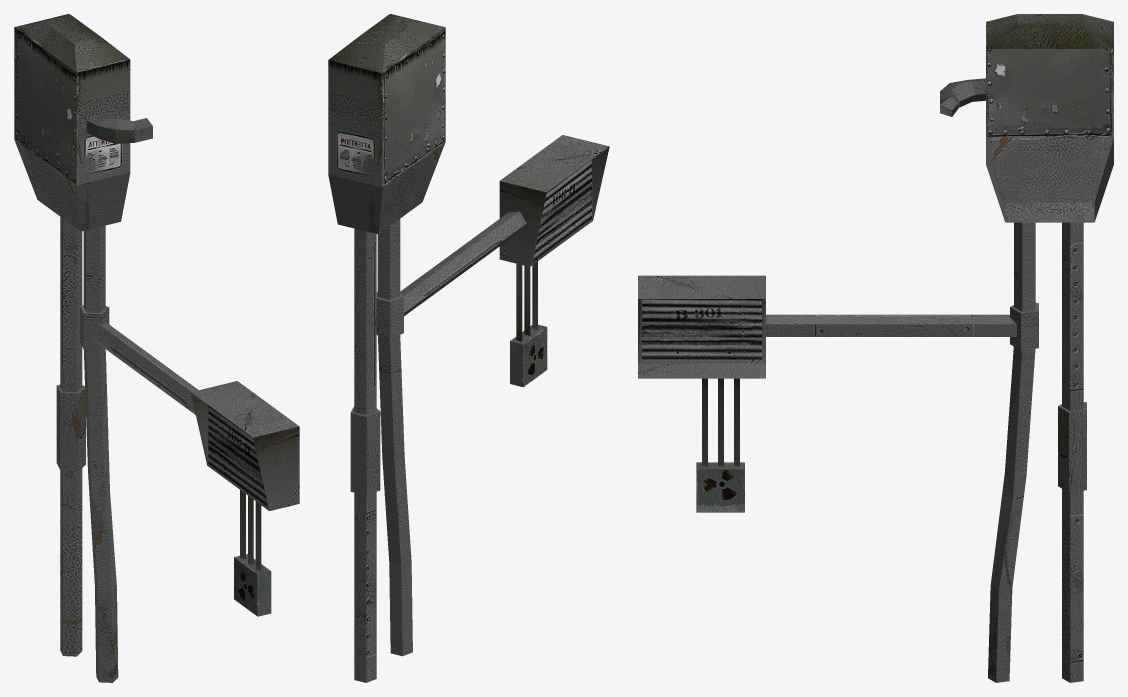
File: electr1.fbx
The picture shows the model from 3 angles, left to right: view 1: azimuth 30°, elevation 25°; view 2: azimuth 150°, elevation 25°; view 3: azimuth 270°, elevation 25°; orthographic projection. The views are drawn at different scales.
Parts seen in each view (by area): view 1: electr1_Layer1; view 2: electr1_Layer1; view 3: electr1_Layer1.
Part boxes in pixels (x1,y1,x2,y2): electr1_Layer1: (14, 14, 299, 682); electr1_Layer1: (328, 14, 609, 682); electr1_Layer1: (638, 14, 1113, 682).
Bounding box in the file's own units: 16 × 180 × 119.
Materials: 1 (1 with a texture image).
